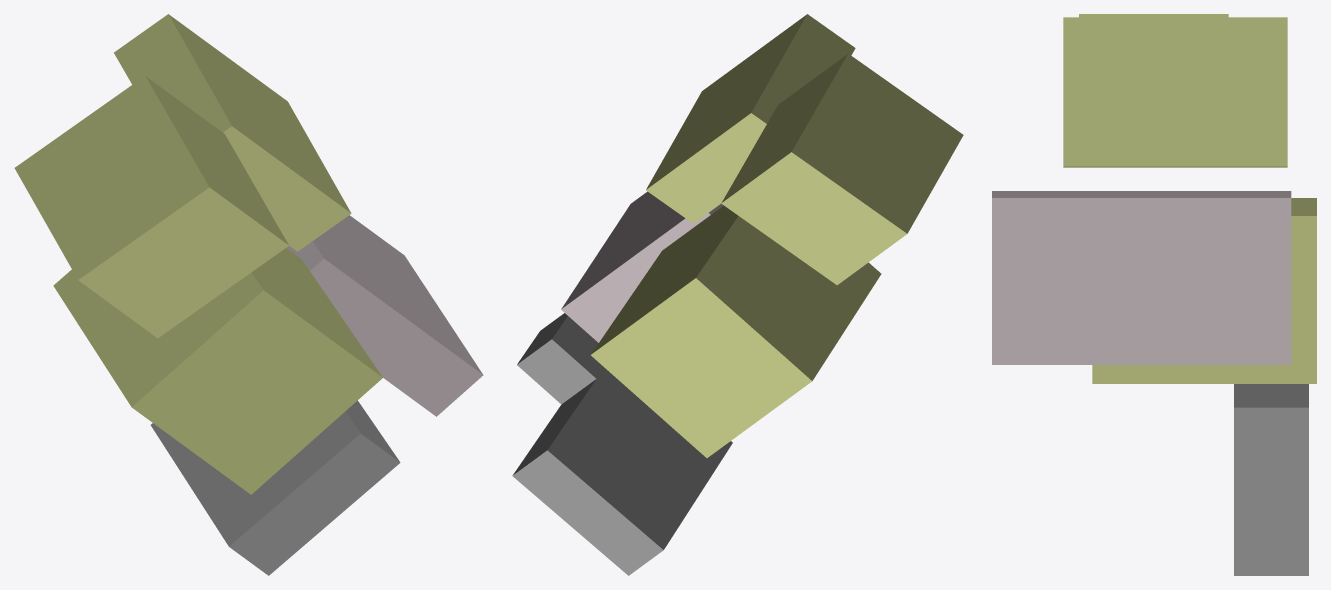
The picture shows the model from 3 angles, left to right: view 1: azimuth 30°, elevation 25°; view 2: azimuth 150°, elevation 25°; view 3: azimuth 270°, elevation 25°; orthographic projection. The views are drawn at different scales.
Parts seen in each view (by area): view 1: 0_1_1_3_2_2_3_0_1_3; view 2: 0_1_1_3_2_2_3_0_1_3; view 3: 0_1_1_3_2_2_3_0_1_3.
Part boxes in pixels (x1,y1,x2,y2): 0_1_1_3_2_2_3_0_1_3: (14, 14, 483, 575); 0_1_1_3_2_2_3_0_1_3: (512, 14, 963, 575); 0_1_1_3_2_2_3_0_1_3: (992, 14, 1316, 575).
Size of the model in its own units: 16.92 by 23.21 by 13.02.
